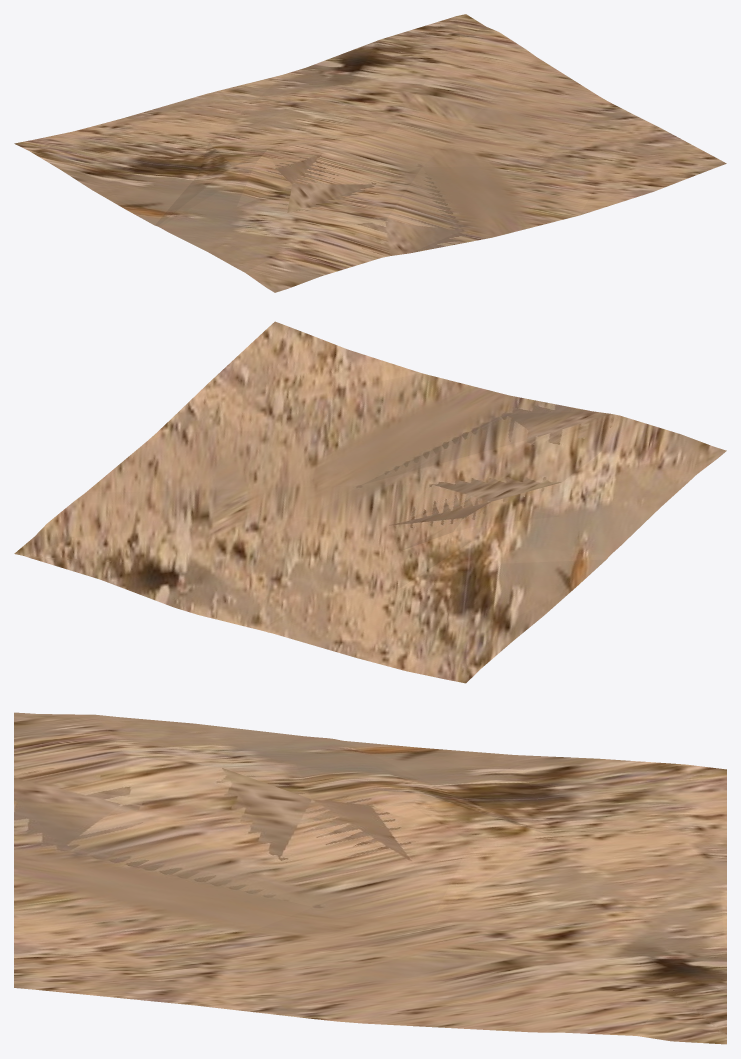
3 views of the same model, one above another, from view 1: azimuth 30°, elevation 25°; view 2: azimuth 150°, elevation 25°; view 3: azimuth 270°, elevation 25° (orthographic). The views are drawn at different scales.
Size of the model in its own units: 1.04 by 0.1391 by 1.04.
3 materials, 3 textured.
